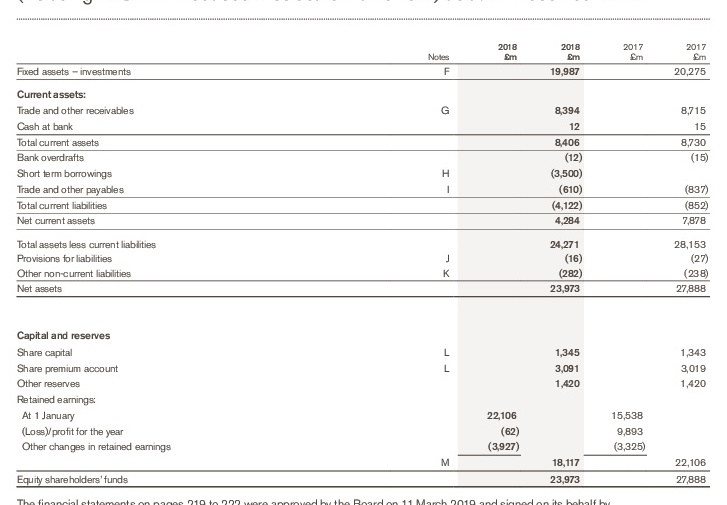table: (0, 0, 727, 505)
